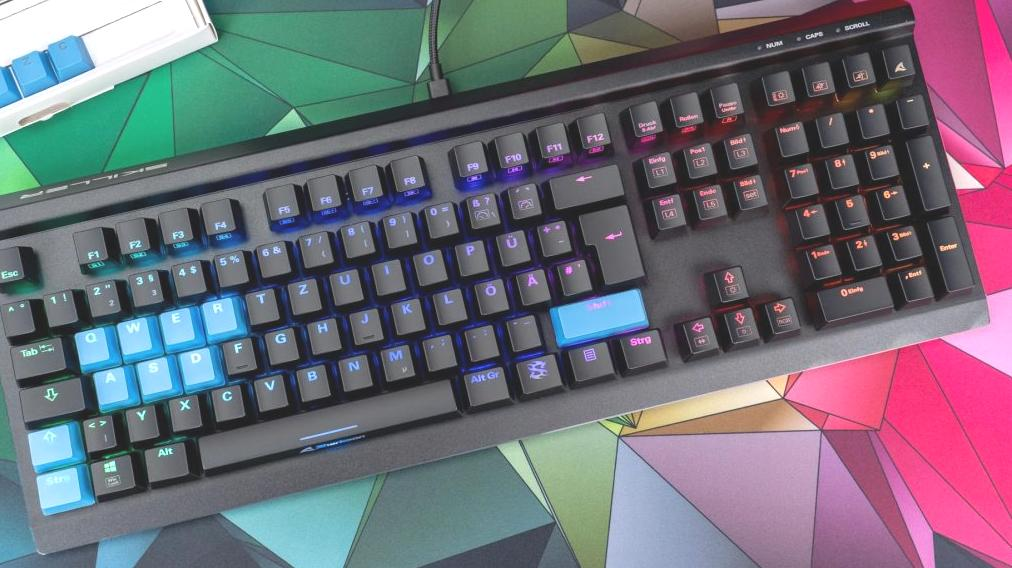0: (421, 198, 458, 237)
1: (42, 286, 77, 325)
2: (84, 277, 120, 316)
3: (127, 266, 163, 306)
4: (170, 257, 206, 296)
5: (212, 247, 248, 286)
6: (254, 237, 291, 277)
7: (296, 227, 333, 266)
8: (338, 217, 375, 257)
9: (380, 208, 416, 247)
a: (92, 364, 128, 405)
accent: (505, 179, 540, 217)
ae: (513, 265, 549, 303)
alt-left: (141, 437, 189, 481)
altgr-right: (459, 363, 509, 405)
b: (294, 360, 330, 400)
c: (208, 381, 245, 420)
caret: (1, 296, 33, 335)
comma: (420, 331, 456, 370)
d: (178, 344, 214, 384)
del: (547, 161, 622, 208)
e: (158, 305, 194, 343)
enter: (576, 201, 644, 283)
f: (221, 334, 256, 373)
g: (263, 324, 299, 363)
h: (305, 314, 341, 352)
hash: (553, 256, 590, 294)
i: (369, 256, 405, 293)
j: (347, 304, 383, 344)
k: (389, 295, 425, 333)
keyboard: (1, 1, 1004, 560)
l: (430, 285, 466, 323)
less: (80, 412, 115, 451)
m: (377, 340, 414, 380)
minus: (503, 311, 540, 350)
n: (336, 351, 372, 390)
o: (410, 246, 447, 284)
oe: (472, 276, 508, 313)
p: (453, 237, 487, 274)
plus: (534, 217, 571, 255)
point: (461, 322, 498, 359)
q: (72, 324, 109, 364)
r: (201, 294, 236, 334)
s: (135, 354, 172, 394)
shift-left: (26, 422, 72, 464)
shift-lock: (18, 375, 84, 421)
shift-right: (550, 286, 647, 339)
space: (195, 374, 459, 471)
ss: (463, 189, 499, 228)
strg-left: (33, 464, 81, 511)
strg-right: (616, 325, 666, 368)
t: (244, 284, 279, 323)
tab: (8, 333, 64, 378)
u: (327, 265, 363, 303)
ue: (494, 226, 529, 264)
v: (252, 370, 288, 410)
w: (115, 314, 151, 354)
x: (167, 392, 201, 430)
y: (124, 402, 158, 440)
z: (286, 275, 321, 313)
